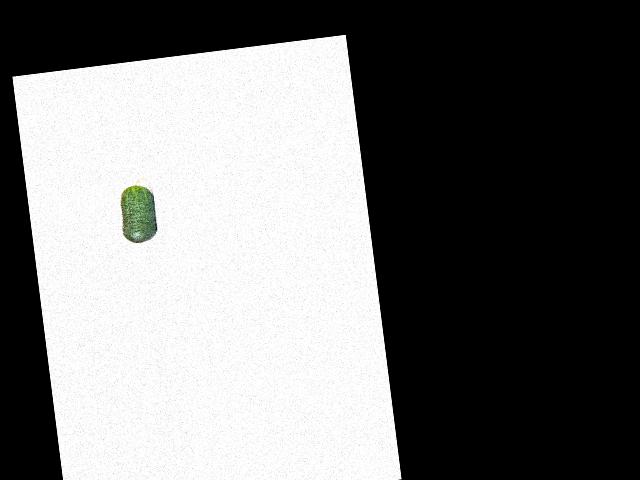cucumber: (115, 176, 159, 244)
